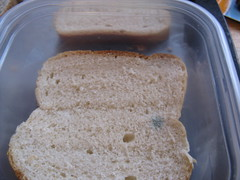mold_bread: (148, 113, 168, 131)
